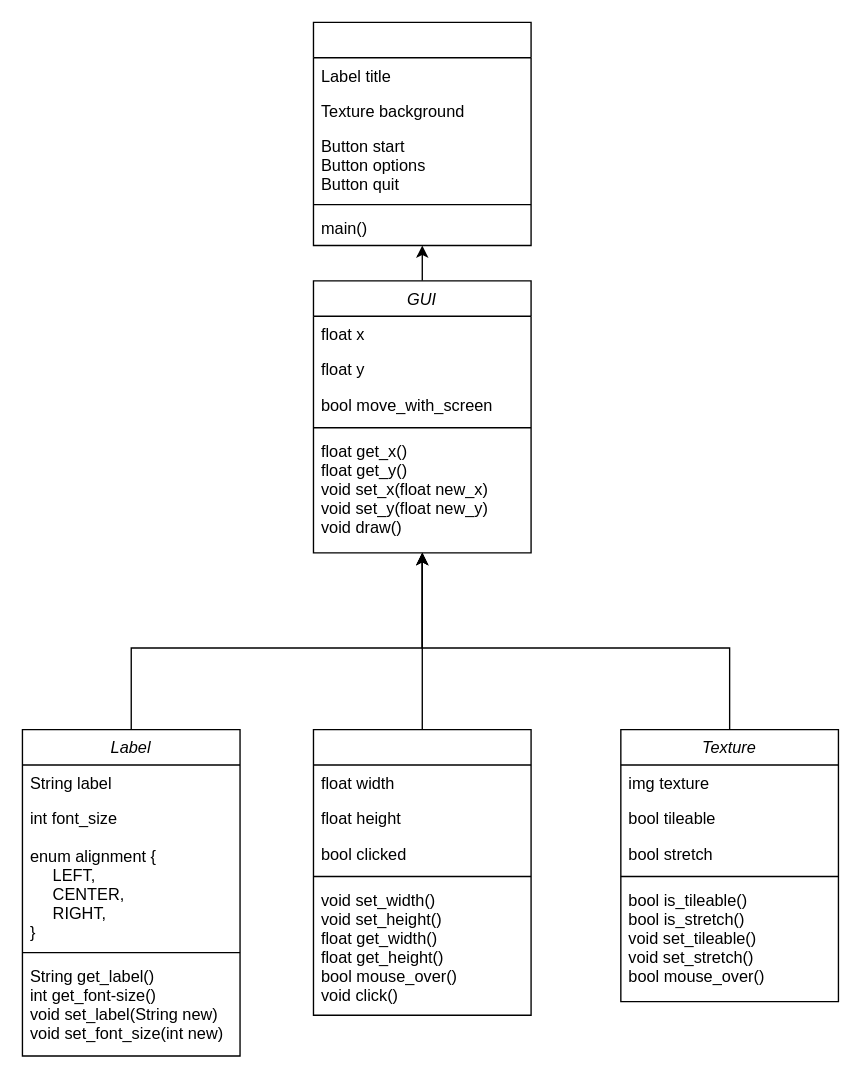
The diagram is 861 pixels wide and 1078 high, and some of its shapes have lost their labels. Here are the shapes that lost their labels. From the top down, the box of each, then its label:
(312, 21, 531, 245): Start Menu
(312, 728, 531, 1015): Button
